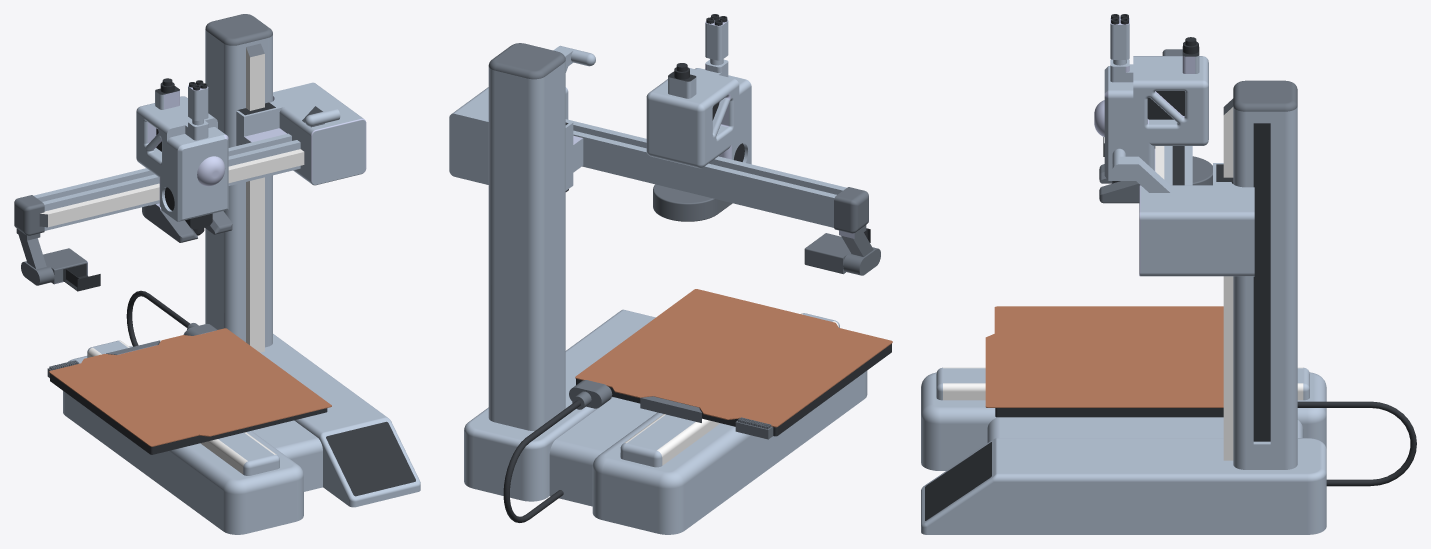
Rendered from PrinterA1mini.fbx.
3 views of the same model, side by side, from view 1: azimuth 30°, elevation 25°; view 2: azimuth 150°, elevation 25°; view 3: azimuth 270°, elevation 25° (orthographic). The views are drawn at different scales.
Visible parts, largest first — view 1: BAMBULAB_A1_MINI1 - Part 5, BAMBULAB_A1_MINI1 - Part 3, BAMBULAB_A1_MINI1 - Part 6, BAMBULAB_A1_MINI2 - Part 4, BAMBULAB_A1_MINI1 - Part 2, BAMBULAB_A1_MINI[1] - Part, BAMBULAB_A1_MINI[2] - Part, BAMBULAB_A1_MINI2 - Part 3, BAMBULAB_A1_MINI2 - Part 2, BAMBULAB_A1_MINI1 - Part 4; view 2: BAMBULAB_A1_MINI1 - Part 5, BAMBULAB_A1_MINI1 - Part 3, BAMBULAB_A1_MINI2 - Part 4, BAMBULAB_A1_MINI[1] - Part, BAMBULAB_A1_MINI1 - Part 2, BAMBULAB_A1_MINI[2] - Part, BAMBULAB_A1_MINI1 - Part 6, BAMBULAB_A1_MINI2 - Part 2; view 3: BAMBULAB_A1_MINI1 - Part 5, BAMBULAB_A1_MINI1 - Part 3, BAMBULAB_A1_MINI1 - Part 2, BAMBULAB_A1_MINI2 - Part 4, BAMBULAB_A1_MINI1 - Part 6, BAMBULAB_A1_MINI[1] - Part, BAMBULAB_A1_MINI[2] - Part, BAMBULAB_A1_MINI2 - Part 2, BAMBULAB_A1_MINI2 - Part 3.
Part boxes in pixels (bbox=[...]): BAMBULAB_A1_MINI1 - Part 5: bbox=[34, 29, 420, 534]; BAMBULAB_A1_MINI1 - Part 3: bbox=[49, 328, 331, 446]; BAMBULAB_A1_MINI1 - Part 6: bbox=[40, 47, 304, 474]; BAMBULAB_A1_MINI2 - Part 4: bbox=[136, 86, 228, 221]; BAMBULAB_A1_MINI1 - Part 2: bbox=[50, 102, 415, 496]; BAMBULAB_A1_MINI[1] - Part: bbox=[14, 14, 272, 377]; BAMBULAB_A1_MINI[2] - Part: bbox=[142, 203, 232, 242]; BAMBULAB_A1_MINI2 - Part 3: bbox=[147, 84, 228, 210]; BAMBULAB_A1_MINI2 - Part 2: bbox=[155, 78, 212, 235]; BAMBULAB_A1_MINI1 - Part 4: bbox=[54, 96, 415, 478]; BAMBULAB_A1_MINI1 - Part 5: bbox=[449, 45, 867, 534]; BAMBULAB_A1_MINI1 - Part 3: bbox=[575, 289, 892, 427]; BAMBULAB_A1_MINI2 - Part 4: bbox=[646, 21, 751, 168]; BAMBULAB_A1_MINI[1] - Part: bbox=[488, 43, 880, 439]; BAMBULAB_A1_MINI1 - Part 2: bbox=[503, 122, 891, 522]; BAMBULAB_A1_MINI[2] - Part: bbox=[653, 184, 732, 221]; BAMBULAB_A1_MINI1 - Part 6: bbox=[624, 313, 839, 465]; BAMBULAB_A1_MINI2 - Part 2: bbox=[668, 14, 744, 161]; BAMBULAB_A1_MINI1 - Part 5: bbox=[921, 107, 1326, 534]; BAMBULAB_A1_MINI1 - Part 3: bbox=[985, 306, 1223, 407]; BAMBULAB_A1_MINI1 - Part 2: bbox=[925, 123, 1416, 520]; BAMBULAB_A1_MINI2 - Part 4: bbox=[1104, 24, 1208, 180]; BAMBULAB_A1_MINI1 - Part 6: bbox=[943, 107, 1303, 460]; BAMBULAB_A1_MINI[1] - Part: bbox=[1154, 49, 1297, 148]; BAMBULAB_A1_MINI[2] - Part: bbox=[1099, 156, 1212, 203]; BAMBULAB_A1_MINI2 - Part 2: bbox=[1111, 14, 1199, 183]; BAMBULAB_A1_MINI2 - Part 3: bbox=[1094, 16, 1195, 170].
Size of the model in its own units: 34.4 by 37.58 by 38.52.
